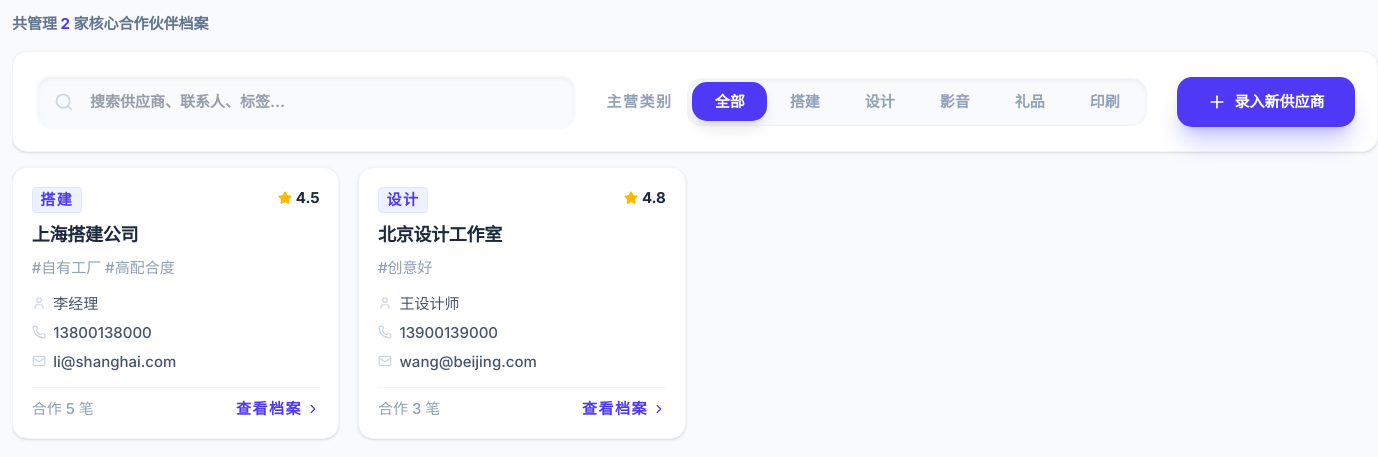
Test: 供应商管理页面交互测试 › 搜索框交互 › 搜索应过滤供应商列表
The image size is (1378, 457).
Type "北京" into the field with placeholder "搜索供应商、联系人、标签..." at coordinates (306, 102), box [36, 74, 576, 129]
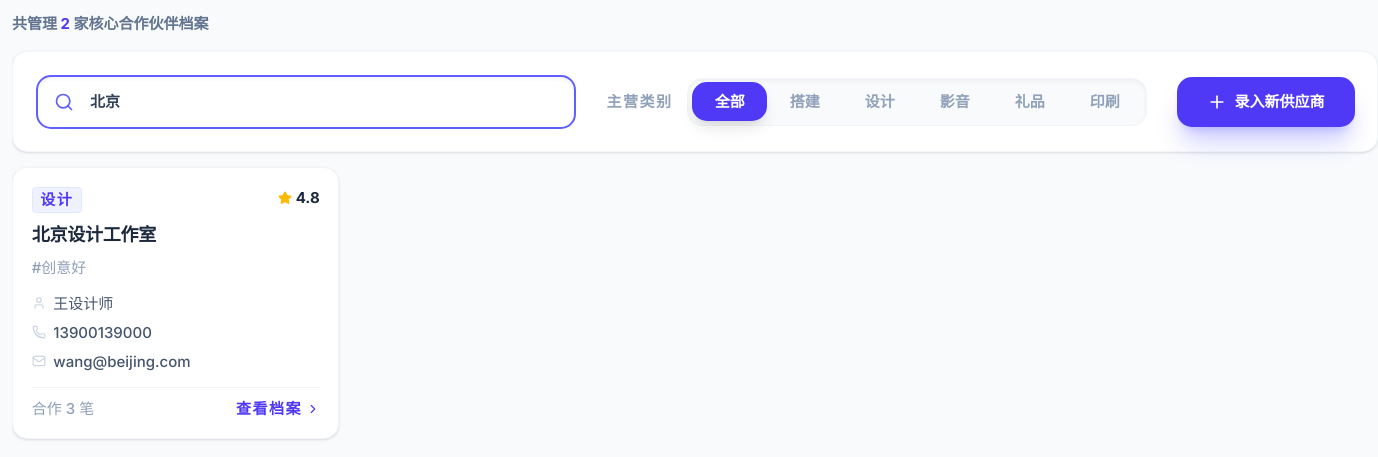
Expected: the heading "北京设计工作室" is shown, [32, 224, 156, 245]
Now the heading "上海搭建公司" is gone
